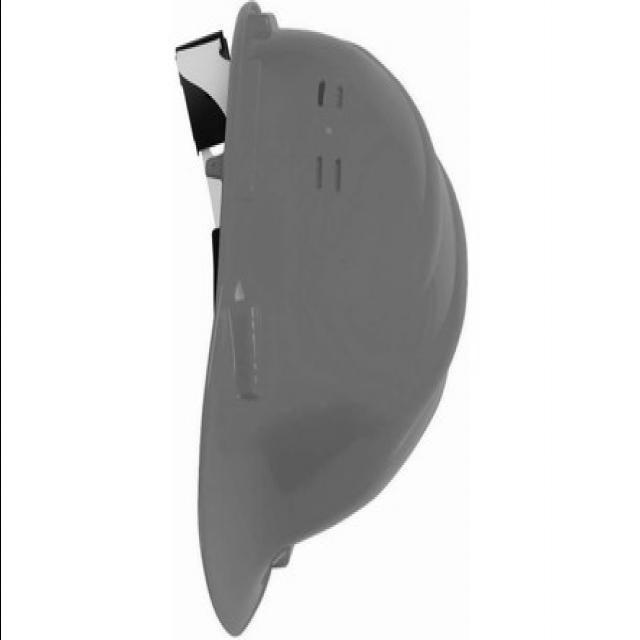safety_helmet: (194, 2, 467, 638)
